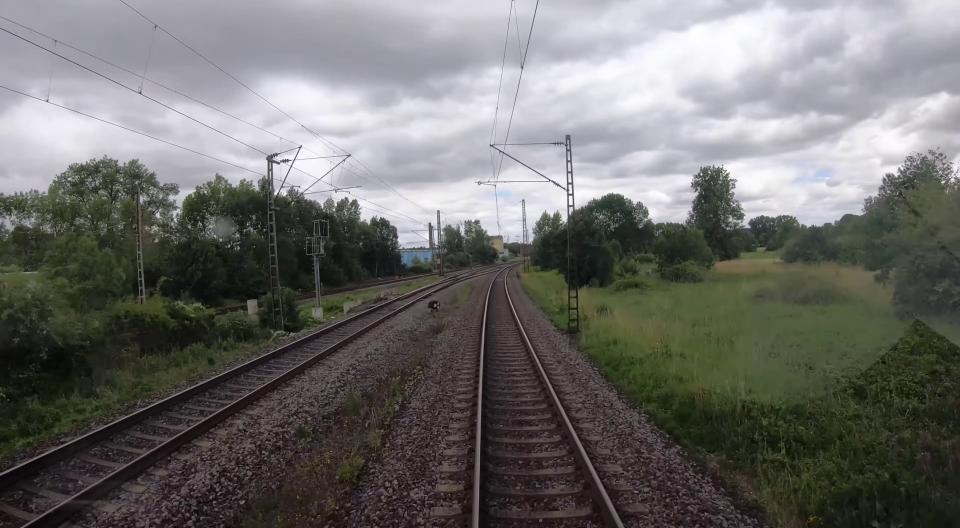Plant: (242, 321, 444, 528), (456, 284, 475, 301)
